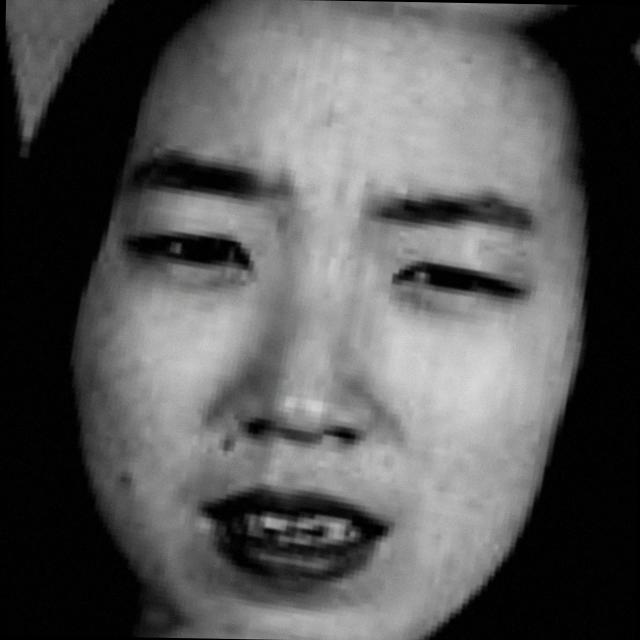disgust: (96, 55, 554, 636)
